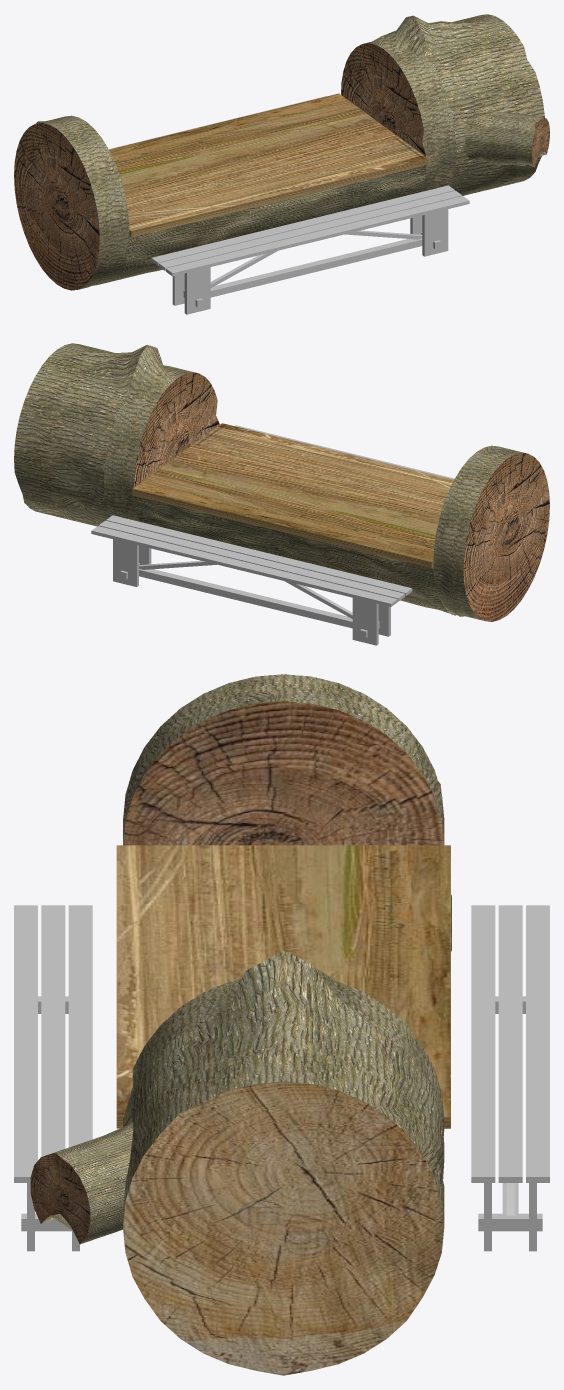
Rendered from tree bench.FBX.
3 views of the same model, one above another, from view 1: azimuth 30°, elevation 25°; view 2: azimuth 150°, elevation 25°; view 3: azimuth 270°, elevation 25° (orthographic). The views are drawn at different scales.
Parts seen in each view (by area): view 1: Cube_1, Cube_9, Cube, Cube_8, Cube_10, Cube_7, Cube_5, Cube_12, Cube_11, Cube_6; view 2: Cube_1, Cube_10_2, Cube_2_3, Cube_9_2, Cube_8_2, Cube_6_2, Cube_4_2, Cube_9, Cube_12_2, Cube_11_2, Cube_7_2; view 3: Cube_1, Cube_9_2, Cube_8_2, Cube_10_2, Cube_9, Cube_8, Cube_10, Cube_3_2.
Part boxes in pixels (left/top/right/bottom): Cube_1: left=14, top=14, right=549, bottom=290; Cube_9: left=166, top=196, right=469, bottom=276; Cube: left=210, top=238, right=422, bottom=297; Cube_8: left=158, top=190, right=462, bottom=270; Cube_10: left=151, top=185, right=454, bottom=265; Cube_7: left=184, top=267, right=210, bottom=314; Cube_5: left=422, top=209, right=448, bottom=256; Cube_12: left=210, top=251, right=277, bottom=287; Cube_11: left=344, top=230, right=422, bottom=239; Cube_6: left=172, top=273, right=184, bottom=305; Cube_1: left=14, top=343, right=549, bottom=621; Cube_10_2: left=91, top=526, right=397, bottom=606; Cube_2_3: left=139, top=569, right=352, bottom=628; Cube_9_2: left=106, top=515, right=412, bottom=596; Cube_8_2: left=99, top=520, right=404, bottom=601; Cube_6_2: left=352, top=598, right=378, bottom=645; Cube_4_2: left=113, top=539, right=138, bottom=586; Cube_9: left=234, top=425, right=454, bottom=479; Cube_12_2: left=284, top=581, right=352, bottom=618; Cube_11_2: left=139, top=560, right=216, bottom=569; Cube_7_2: left=378, top=604, right=390, bottom=636; Cube_1: left=30, top=674, right=451, bottom=1375; Cube_9_2: left=471, top=905, right=495, bottom=1182; Cube_8_2: left=498, top=905, right=522, bottom=1182; Cube_10_2: left=526, top=905, right=549, bottom=1182; Cube_9: left=14, top=905, right=37, bottom=1182; Cube_8: left=41, top=905, right=65, bottom=1156; Cube_10: left=68, top=905, right=92, bottom=1147; Cube_3_2: left=478, top=1213, right=542, bottom=1231.
Bounding box in the file's own units: 767 × 299 × 424.
